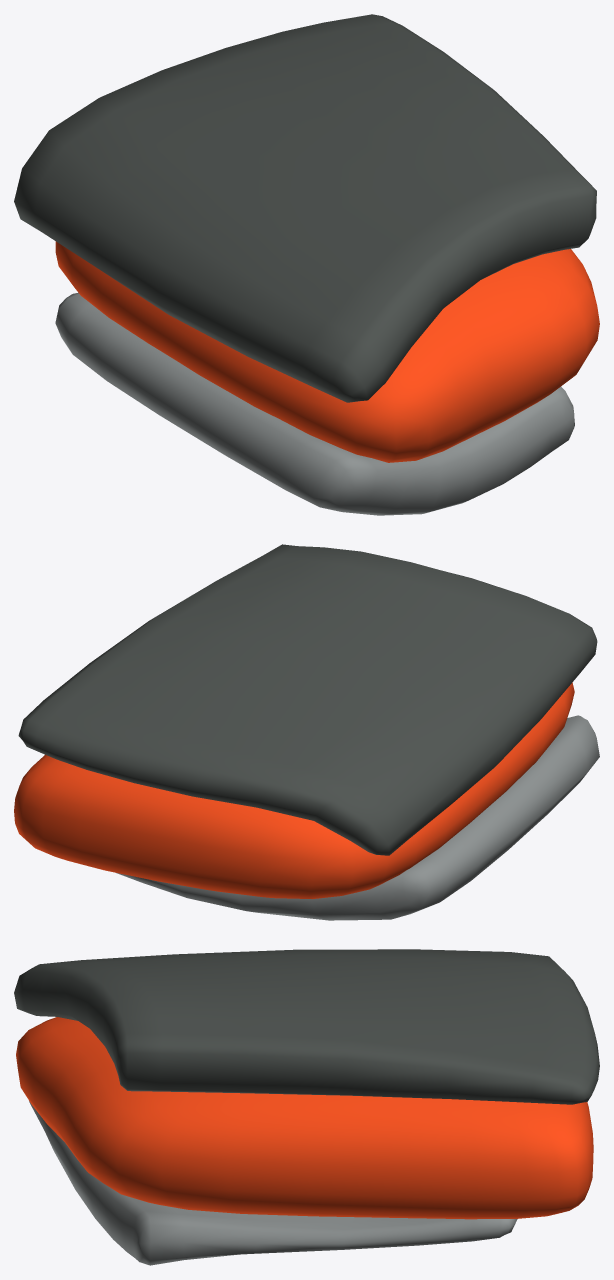
File: xsens_LeftFourthMC.dae
3 views of the same model, one above another, from view 1: azimuth 30°, elevation 25°; view 2: azimuth 150°, elevation 25°; view 3: azimuth 270°, elevation 25° (orthographic). The views are drawn at different scales.
Parts seen in each view (by area): view 1: LeftFourthMC; view 2: LeftFourthMC; view 3: LeftFourthMC.
Part boxes in pixels (box(x1,y1,x2,y2)): LeftFourthMC: box(14, 14, 599, 515); LeftFourthMC: box(14, 544, 599, 920); LeftFourthMC: box(14, 949, 599, 1265).
Size of the model in its own units: 0.0502 by 0.069 by 0.0326.
